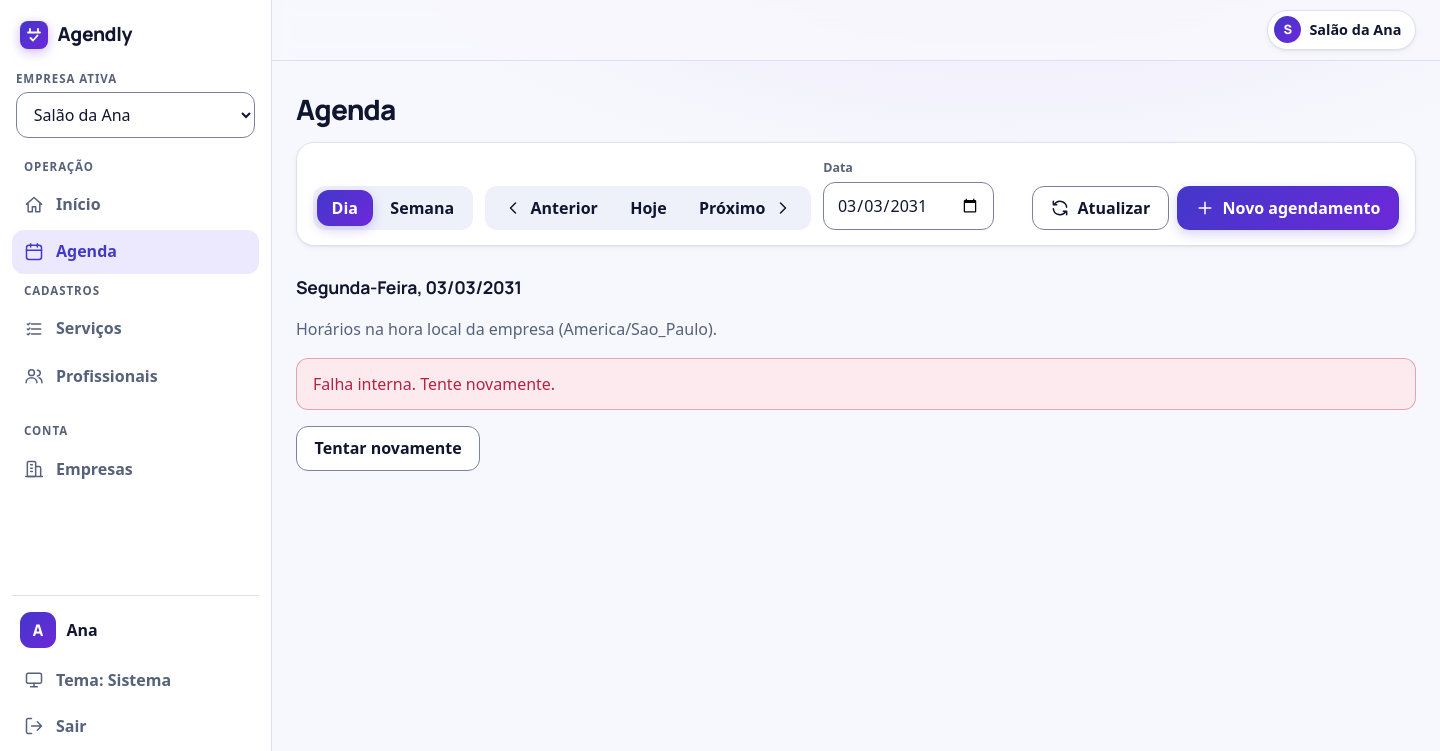
Test: estados da tela › erro da API NÃO vira lista vazia: mostra o erro e 'Tentar novamente' recupera
Check: the message reads "Falha interna. Tente novamente.", box left=313, top=373, right=555, bottom=395
Click the button "Tentar novamente" at (388,448), box left=296, top=426, right=480, bottom=471
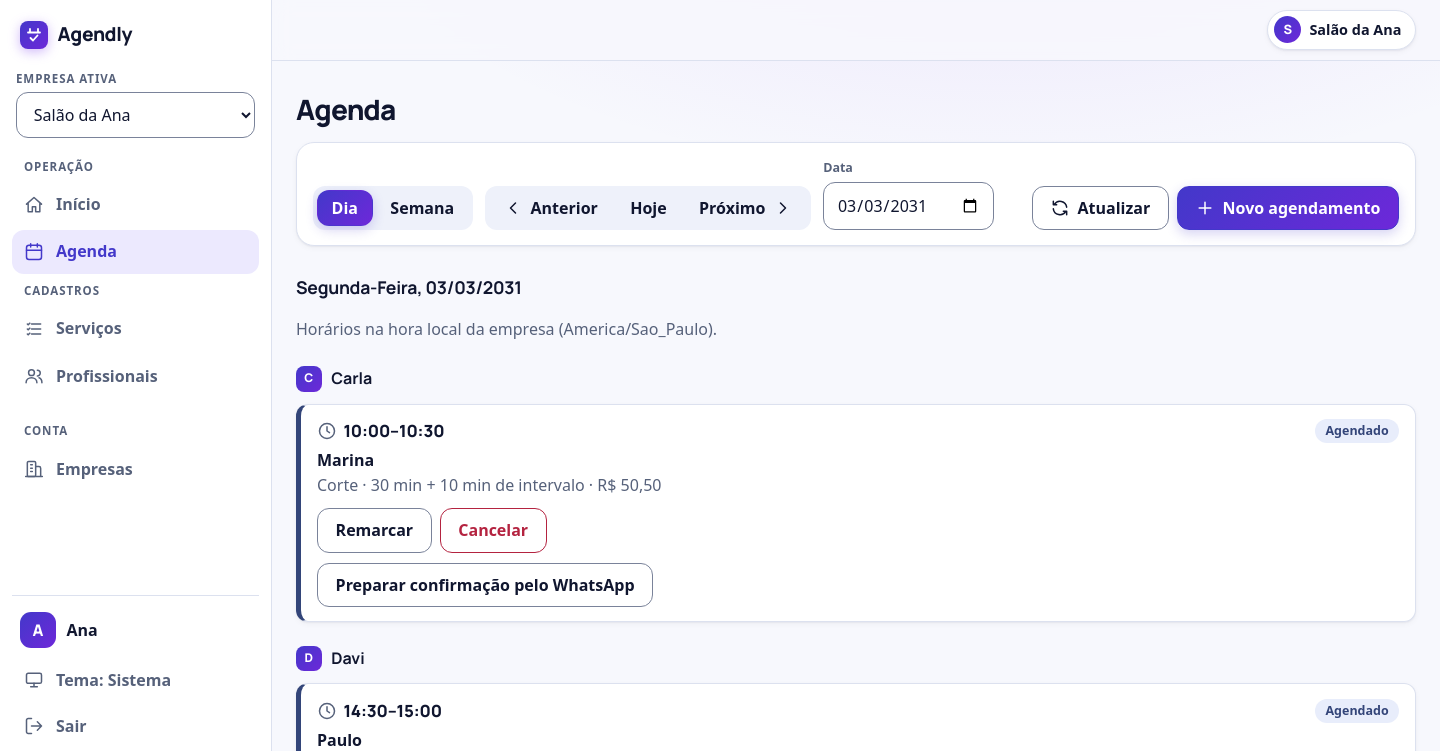
Check: the message "Falha interna. Tente novamente." is gone
